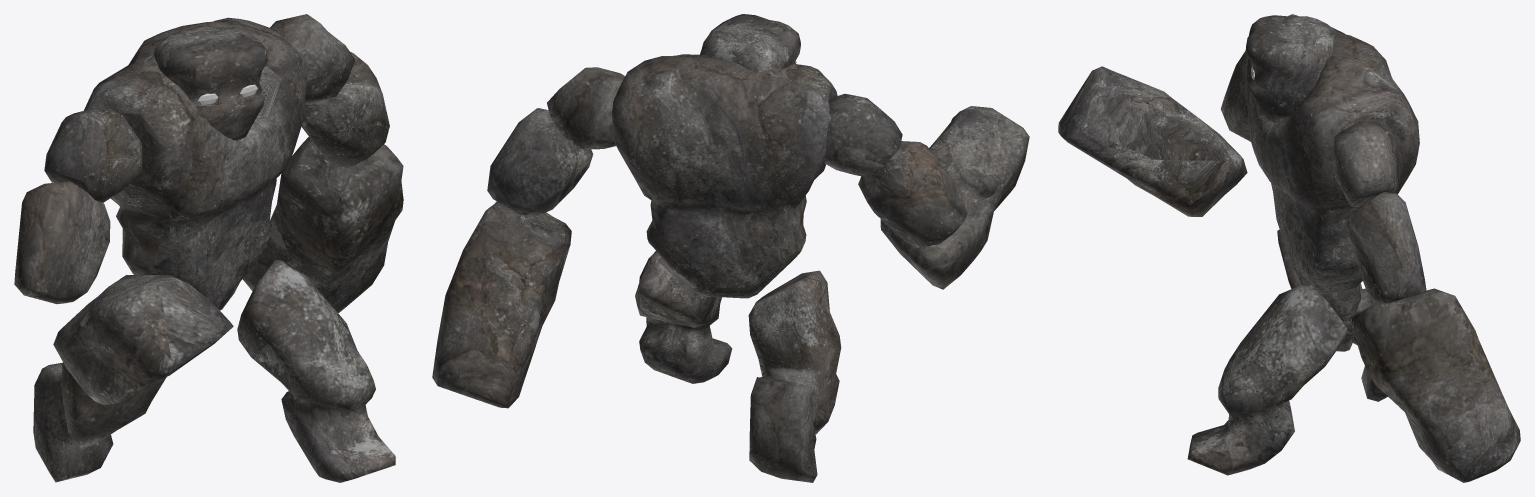
File: walk_000013.obj
3 renders of one model, left to right at view 1: azimuth 30°, elevation 25°; view 2: azimuth 150°, elevation 25°; view 3: azimuth 270°, elevation 25°, orthographic. The views are drawn at different scales.
Visible parts, largest first — view 1: hands&leg.001_ice.003, torso.001_ice.005, head.001_ice.004; view 2: hands&leg.001_ice.003, torso.001_ice.005, head.001_ice.004; view 3: hands&leg.001_ice.003, torso.001_ice.005, head.001_ice.004.
Part boxes in pixels (bbox=[...]): hands&leg.001_ice.003: bbox=[14, 14, 403, 482]; torso.001_ice.005: bbox=[84, 17, 307, 310]; head.001_ice.004: bbox=[153, 26, 267, 140]; hands&leg.001_ice.003: bbox=[432, 67, 1029, 482]; torso.001_ice.005: bbox=[612, 54, 837, 298]; head.001_ice.004: bbox=[700, 14, 800, 72]; hands&leg.001_ice.003: bbox=[1058, 14, 1520, 482]; torso.001_ice.005: bbox=[1245, 27, 1419, 294]; head.001_ice.004: bbox=[1245, 15, 1336, 122].
Size of the model in its own units: 10.51 by 9.58 by 9.84.
Materials: 2 (1 with a texture image).
